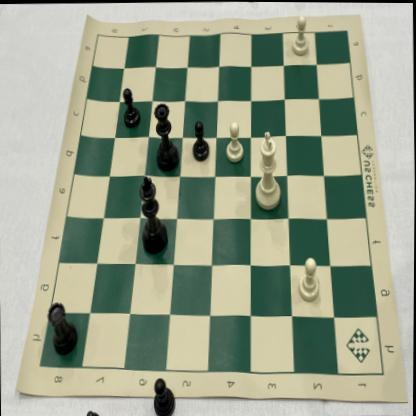black-king: (136, 173, 171, 259)
black-pawn: (190, 119, 212, 166), (120, 84, 142, 129)
black-queen: (152, 93, 180, 175)
black-rook: (46, 298, 83, 358)
white-king: (252, 127, 286, 214)
white-pawn: (295, 253, 325, 303), (288, 13, 312, 59), (224, 117, 247, 164)
